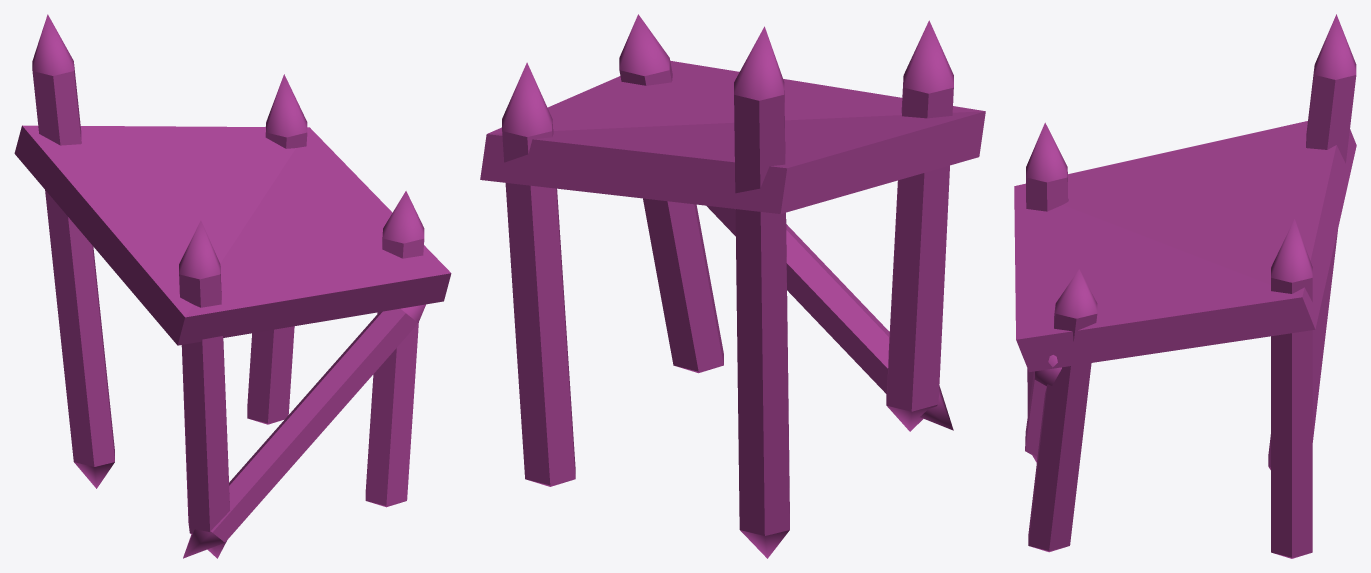
Rendered from SM_Bld_Tent_Basic_01_Collision.fbx.
3 views of the same model, side by side, from view 1: azimuth 30°, elevation 25°; view 2: azimuth 150°, elevation 25°; view 3: azimuth 270°, elevation 25° (orthographic). The views are drawn at different scales.
Visible parts, largest first — view 1: SM_Bld_Tent_Basic_01_Collision; view 2: SM_Bld_Tent_Basic_01_Collision; view 3: SM_Bld_Tent_Basic_01_Collision.
Part boxes in pixels (bbox=[...]): SM_Bld_Tent_Basic_01_Collision: bbox=[14, 14, 451, 558]; SM_Bld_Tent_Basic_01_Collision: bbox=[480, 14, 985, 558]; SM_Bld_Tent_Basic_01_Collision: bbox=[1014, 14, 1356, 558].
Bounding box in the file's own units: 294 × 470 × 312.
